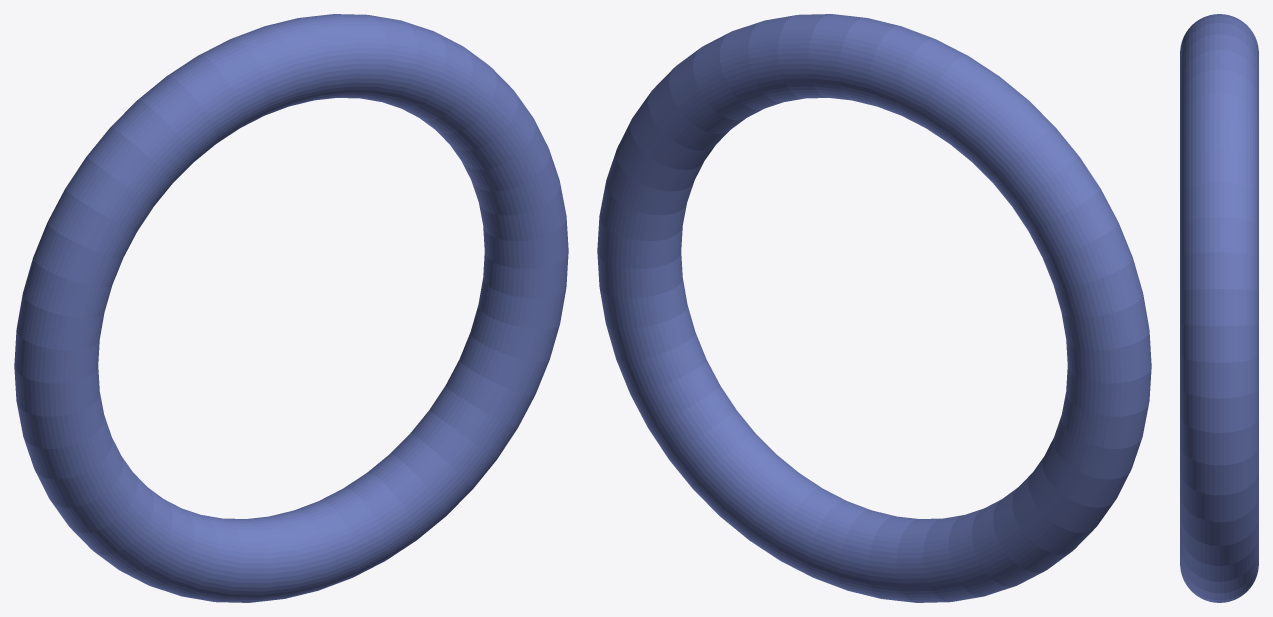
The picture shows the model from 3 angles, left to right: view 1: azimuth 30°, elevation 25°; view 2: azimuth 150°, elevation 25°; view 3: azimuth 270°, elevation 25°; orthographic projection. The views are drawn at different scales.
Visible parts, largest first — view 1: world; view 2: world; view 3: world.
Boxes of the visible parts, x1,y1,x2,y2 form: world: [14, 14, 568, 602]; world: [597, 14, 1151, 602]; world: [1180, 14, 1258, 602].
Bounding box in the file's own units: 16.93 × 16.9 × 2.26.
